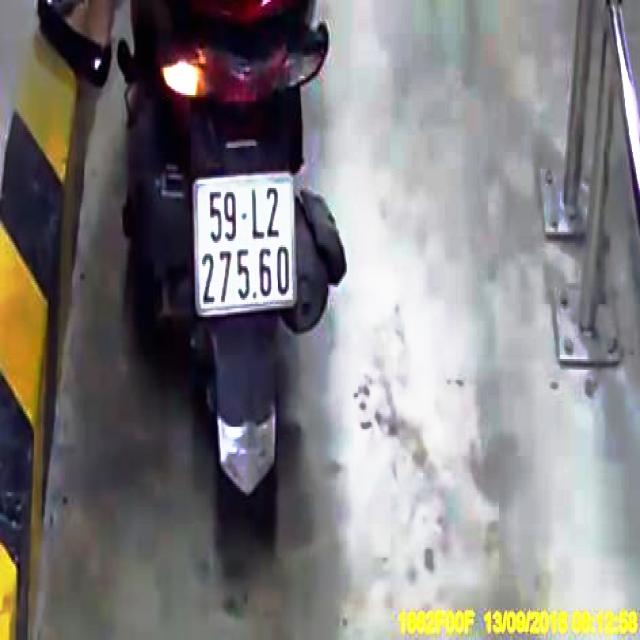license_plate: (194, 177, 297, 317)
